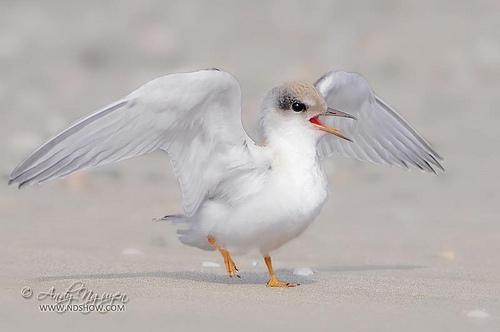bird: (7, 67, 445, 291)
